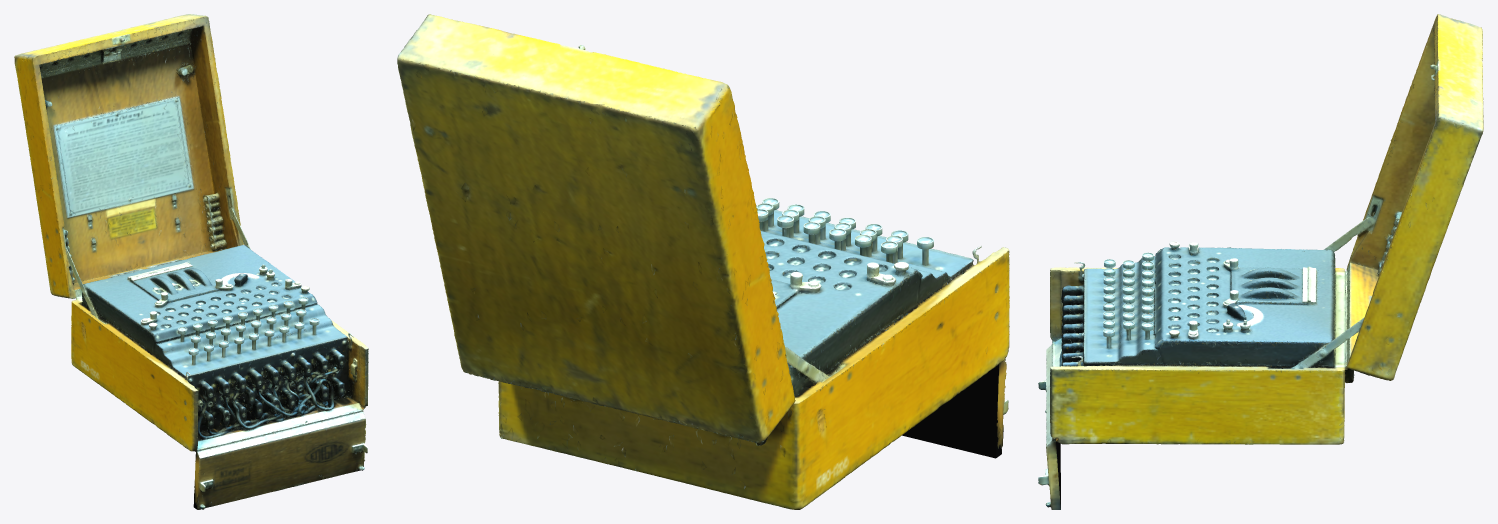
The model's file is enigma_machine_1934.glb.
3 views of the same model, side by side, from view 1: azimuth 30°, elevation 25°; view 2: azimuth 150°, elevation 25°; view 3: azimuth 270°, elevation 25° (orthographic). The views are drawn at different scales.
Parts seen in each view (by area): view 1: Object_3, Object_4, Object_5, Object_6, Object_7; view 2: Object_4, Object_3, Object_5, Object_7, Object_6, Object_8; view 3: Object_3, Object_4, Object_6, Object_5, Object_7.
Part boxes in pixels (x1,y1,x2,y2): Object_3: (32, 14, 368, 509); Object_4: (14, 22, 367, 509); Object_5: (73, 274, 339, 502); Object_6: (34, 162, 368, 505); Object_7: (22, 74, 367, 478); Object_4: (402, 42, 1008, 506); Object_3: (397, 14, 1006, 509); Object_5: (756, 203, 1009, 489); Object_7: (432, 107, 775, 471); Object_6: (634, 203, 1009, 509); Object_8: (902, 364, 1003, 458); Object_3: (1046, 24, 1483, 509); Object_4: (1038, 14, 1483, 445); Object_6: (1046, 141, 1403, 444); Object_5: (1049, 241, 1323, 362); Object_7: (1038, 48, 1435, 507).
Bounding box in the file's own units: 19.46 × 34.99 × 35.41.
2 materials, 1 textured.
